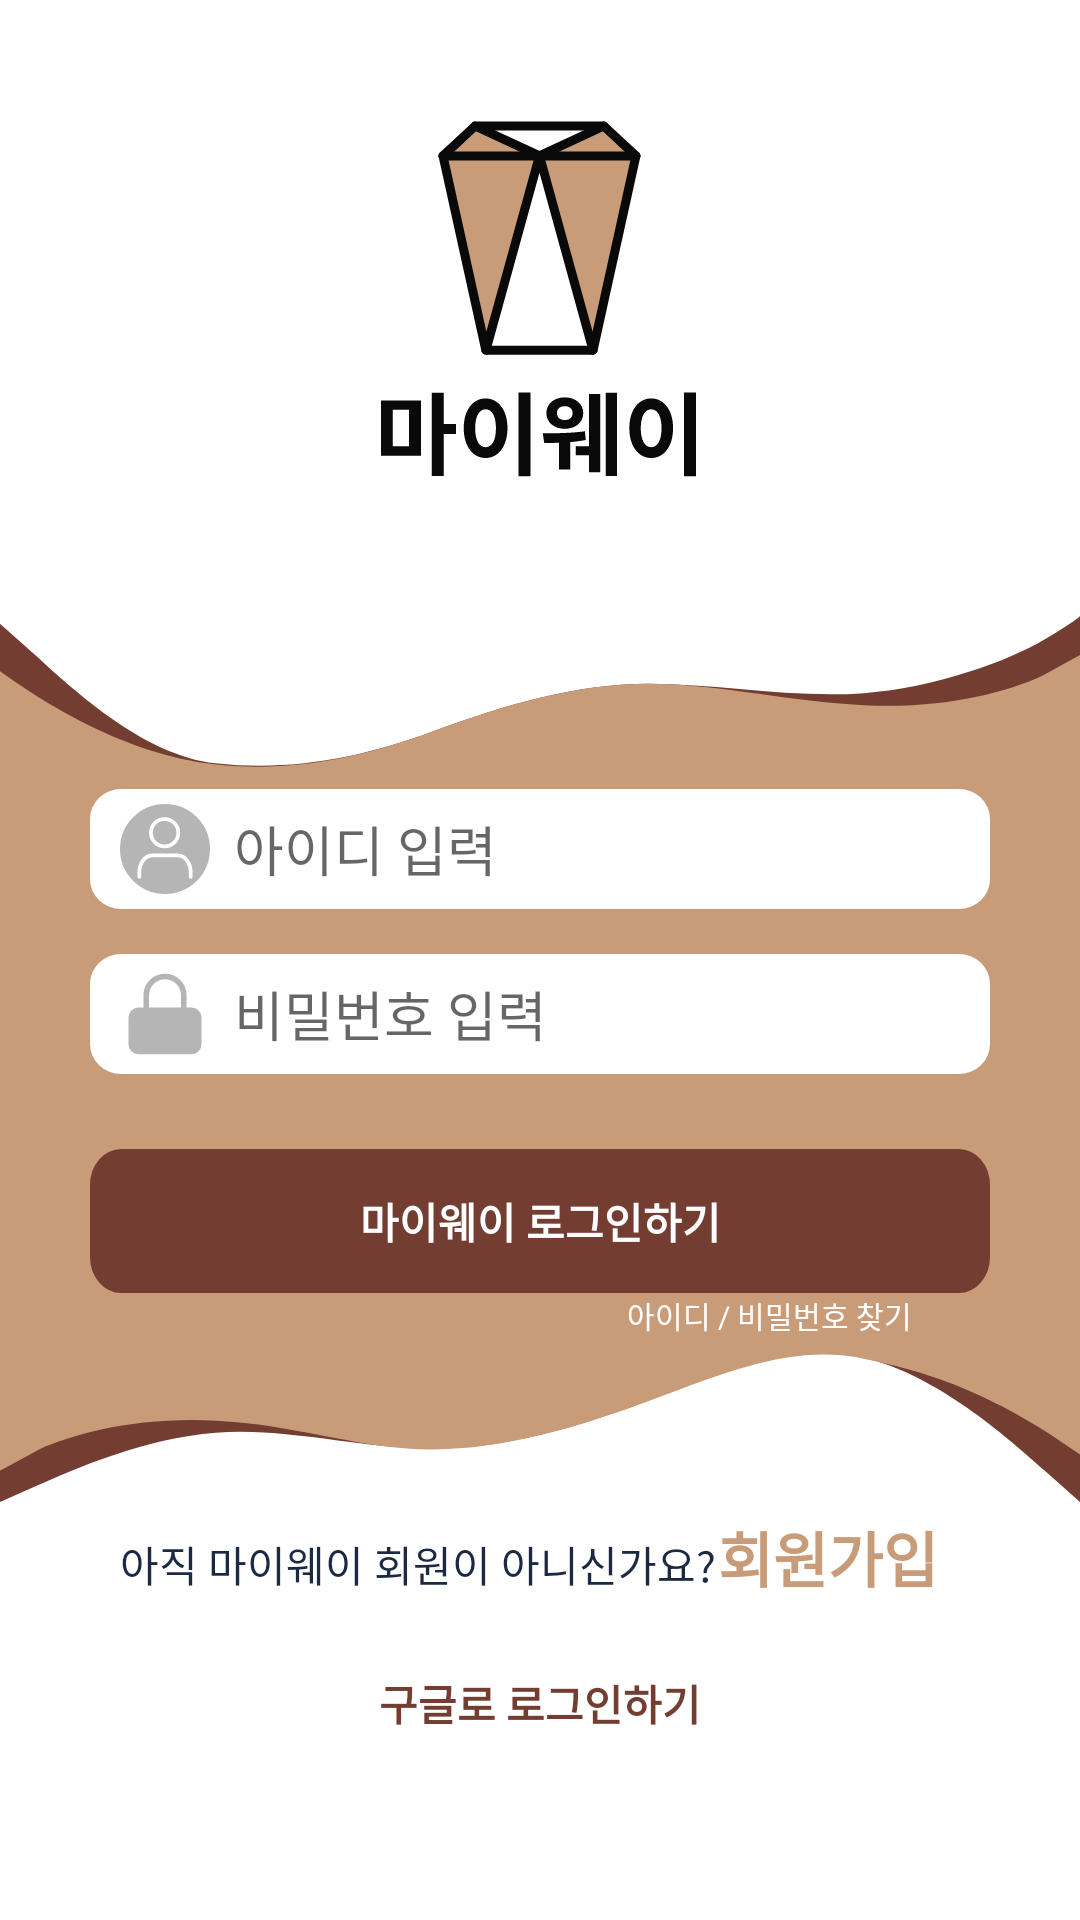

Icons on this 1080px×1920px Android screen, each with its box as [x1,y1,x2,y2]:
password: [128,974,202,1054]
